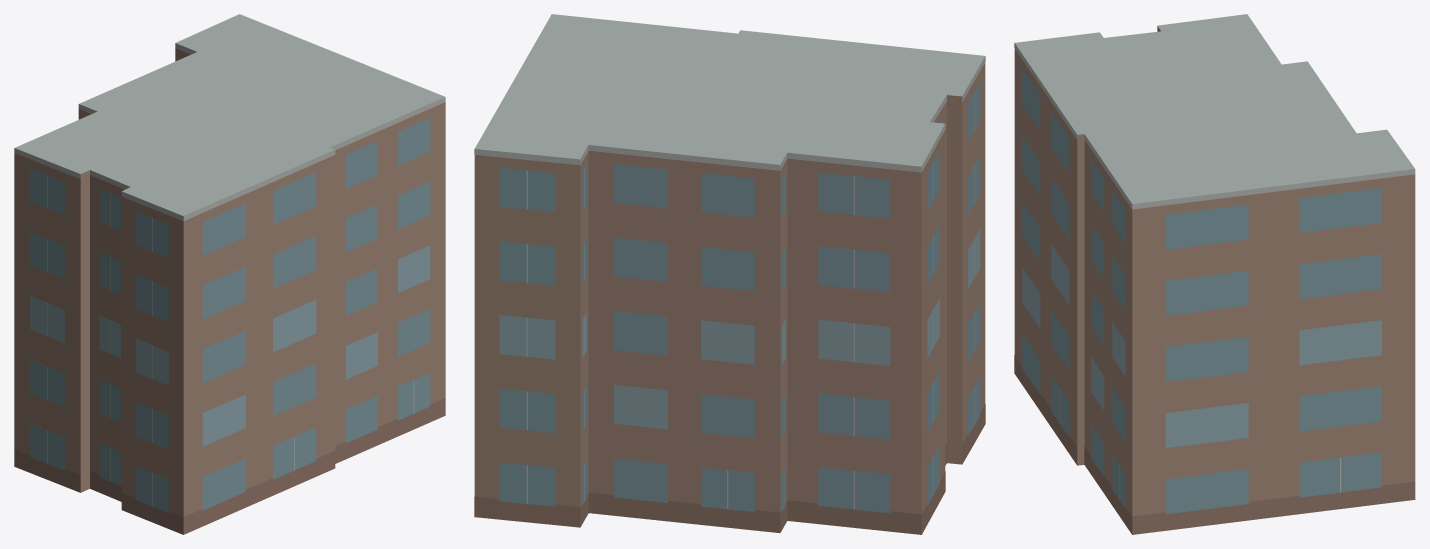
Rendered from survey-upis-32680810.glb.
The picture shows the model from 3 angles, left to right: view 1: azimuth 30°, elevation 25°; view 2: azimuth 150°, elevation 25°; view 3: azimuth 270°, elevation 25°; orthographic projection. The views are drawn at different scales.
Visible parts, largest first — view 1: survey-upis-32680810.tmp; view 2: survey-upis-32680810.tmp; view 3: survey-upis-32680810.tmp.
Boxes of the visible parts, box(x1,y1,x2,y2) form: survey-upis-32680810.tmp: box(14, 14, 445, 534); survey-upis-32680810.tmp: box(474, 14, 985, 534); survey-upis-32680810.tmp: box(1014, 14, 1415, 534).
Size of the model in its own units: 18.82 by 15.25 by 16.76.
